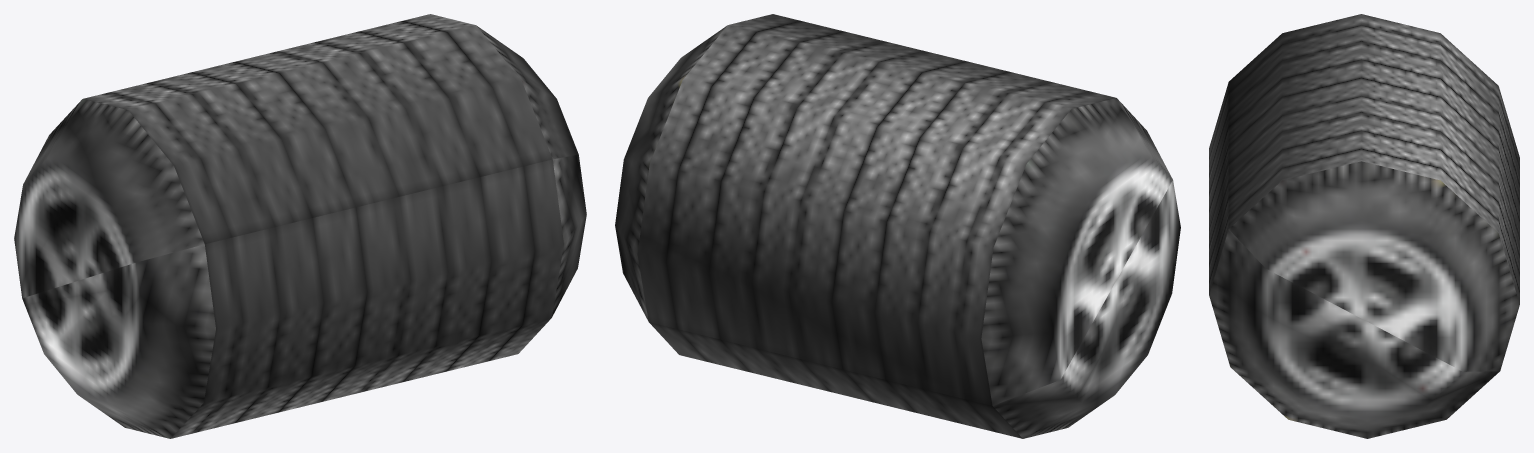
Rendered from motorbikewheel.fbx.
3 views of the same model, side by side, from view 1: azimuth 30°, elevation 25°; view 2: azimuth 150°, elevation 25°; view 3: azimuth 270°, elevation 25° (orthographic). The views are drawn at different scales.
Visible parts, largest first — view 1: spcbike1; view 2: spcbike1; view 3: spcbike1.
Boxes of the visible parts, box(x1,y1,x2,y2) form: spcbike1: box(14, 14, 586, 438); spcbike1: box(615, 14, 1180, 438); spcbike1: box(1209, 14, 1519, 438).
Bounding box in the file's own units: 48.16 × 33.27 × 33.75.
1 material, 1 textured.
